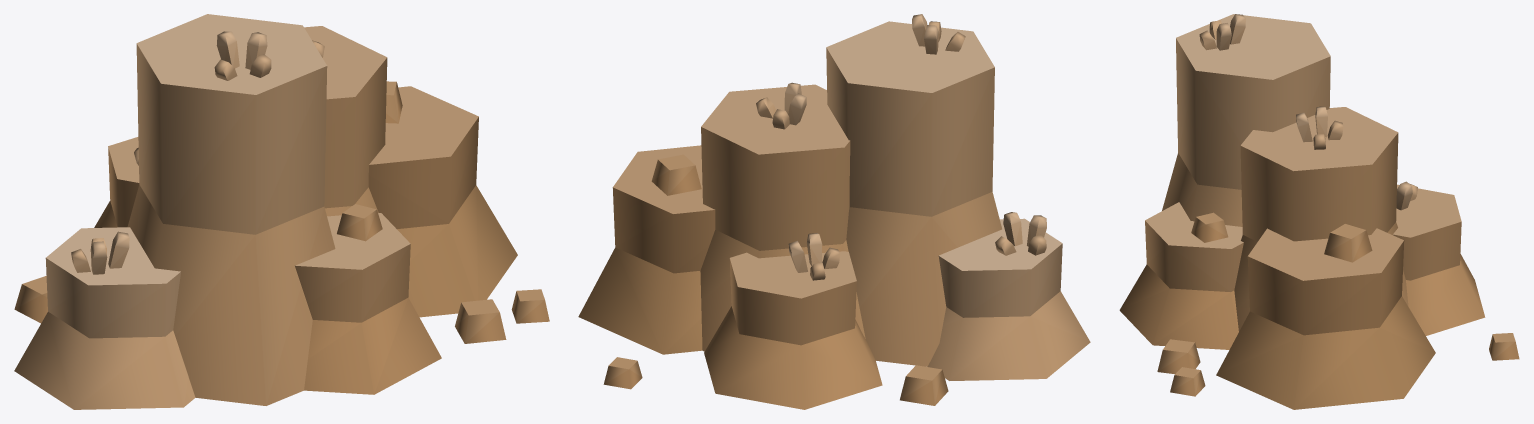
Rendered from kenney_pirate_rocks_sand_a.glb.
3 views of the same model, side by side, from view 1: azimuth 30°, elevation 25°; view 2: azimuth 150°, elevation 25°; view 3: azimuth 270°, elevation 25° (orthographic). The views are drawn at different scales.
Parts seen in each view (by area): view 1: stone; view 2: stone; view 3: stone.
Part boxes in pixels (x1,y1,x2,y2): stone: [14, 14, 549, 409]; stone: [578, 14, 1090, 409]; stone: [1119, 14, 1519, 409].
Size of the model in its own units: 5.11 by 3.21 by 4.39.
